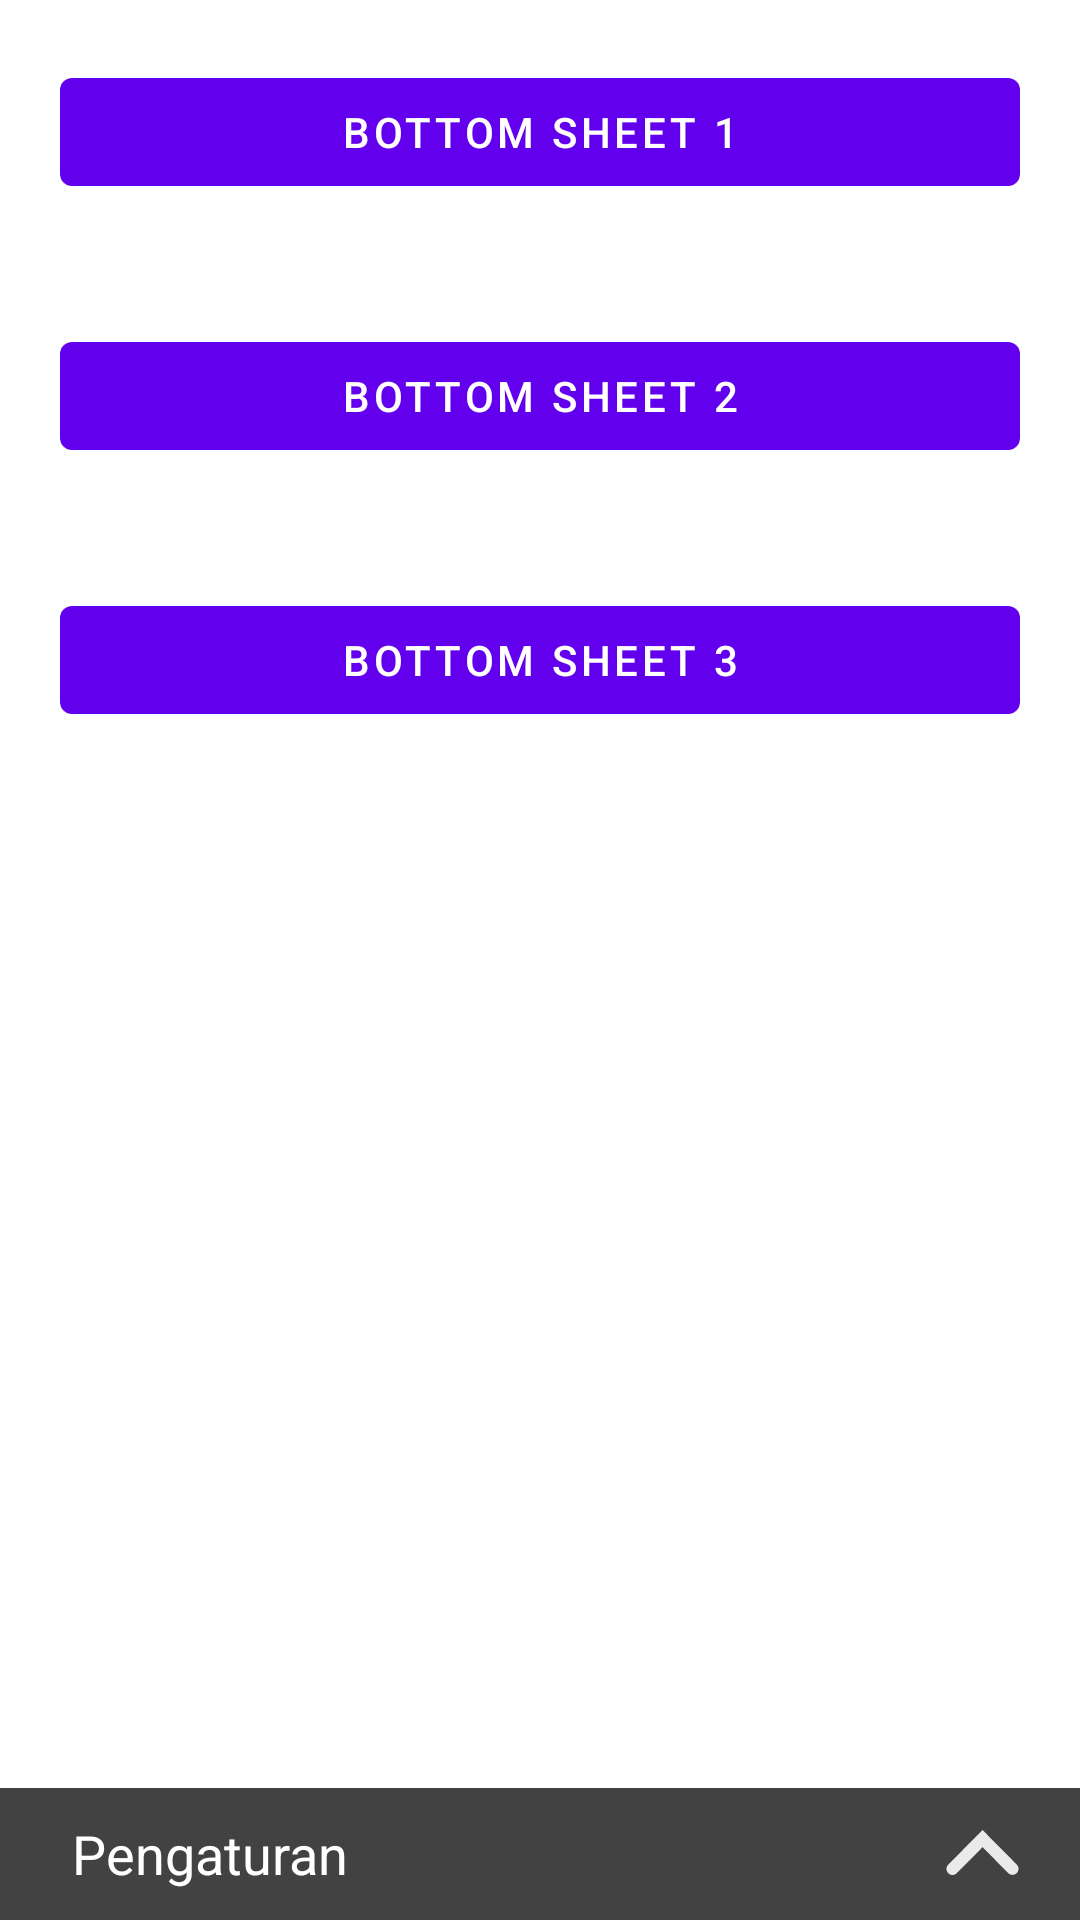

Locate icon controls on the screen. Image size 1080×1920, boxes as rect(x1, y1, x2, y2).
extend arrow: rect(946, 1830, 1019, 1875)
